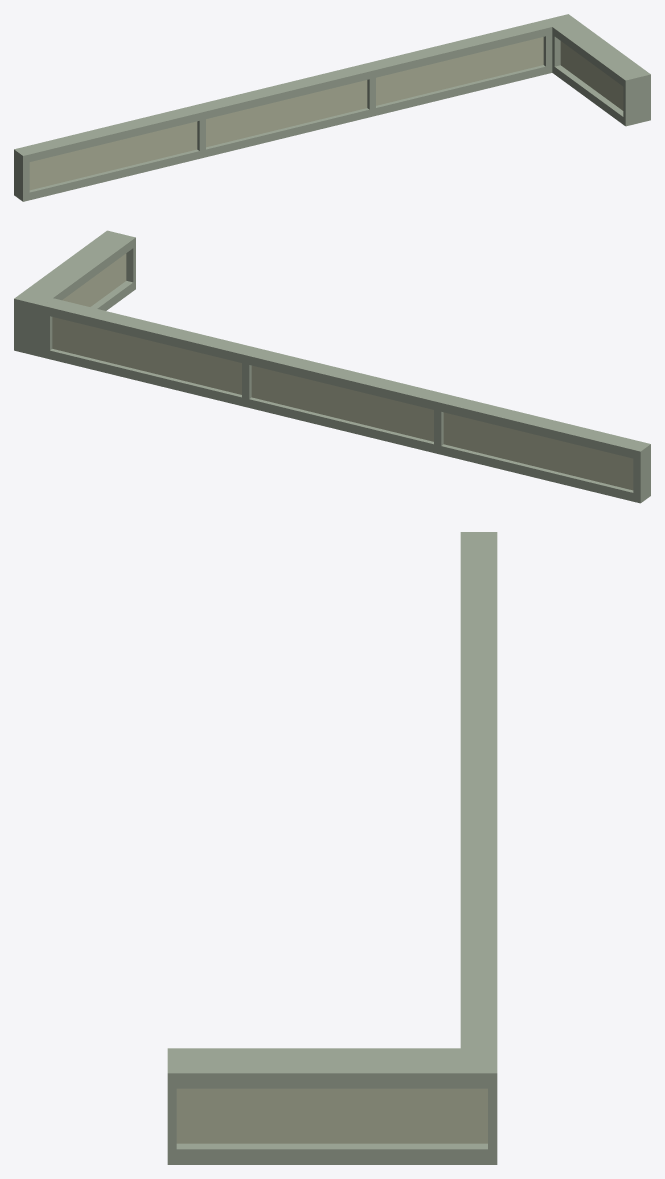
Rendered from Barrière pierre 4 fixed.fbx.
3 renders of one model, top to bottom at view 1: azimuth 30°, elevation 25°; view 2: azimuth 150°, elevation 25°; view 3: azimuth 270°, elevation 25°, orthographic. The views are drawn at different scales.
Parts seen in each view (by area): view 1: Rambarde Droite 2.002; view 2: Rambarde Droite 2.002; view 3: Rambarde Droite 2.002.
Boxes of the visible parts, x1=… form: Rambarde Droite 2.002: x1=14, y1=14, x2=650, y2=201; Rambarde Droite 2.002: x1=14, y1=230, x2=650, y2=503; Rambarde Droite 2.002: x1=167, y1=532, x2=497, y2=1164.
Size of the model in its own units: 770 by 60.92 by 198.
